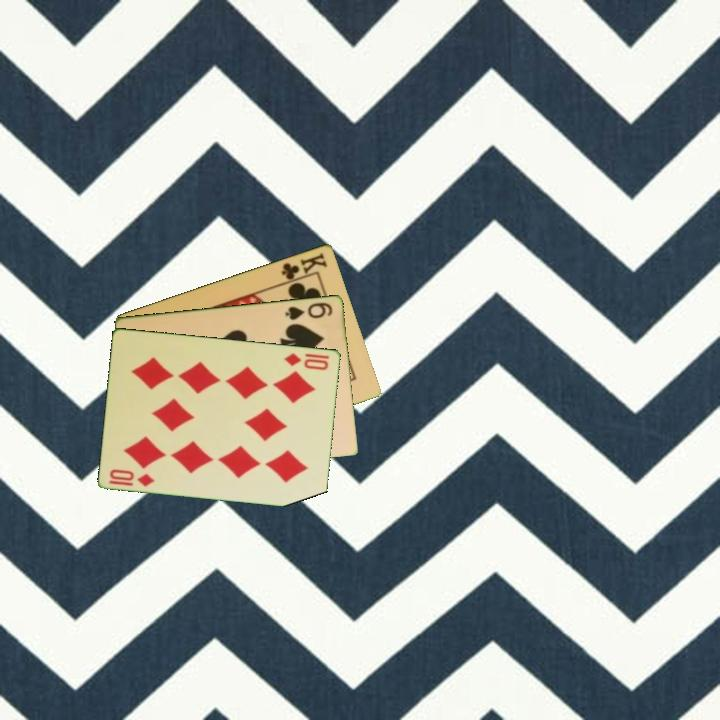10d: (106, 465, 158, 489), (281, 349, 332, 373)
6s: (282, 298, 335, 323)
Kc: (278, 248, 330, 286)
